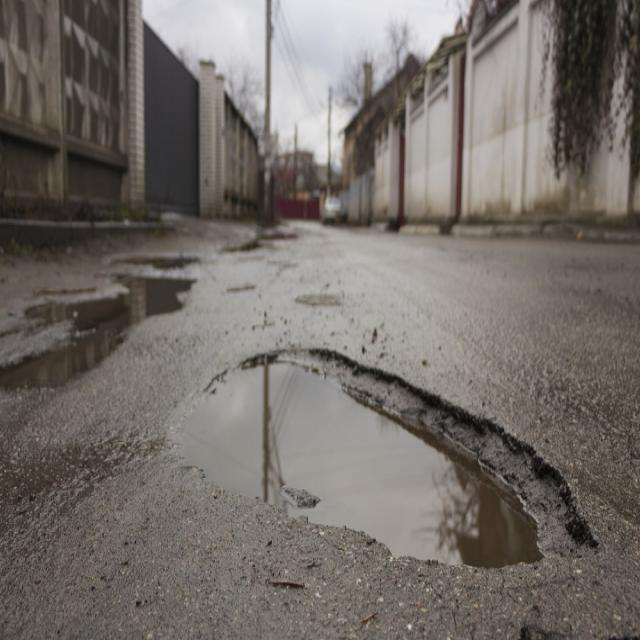Potholes: (165, 344, 597, 599), (0, 248, 214, 402)
